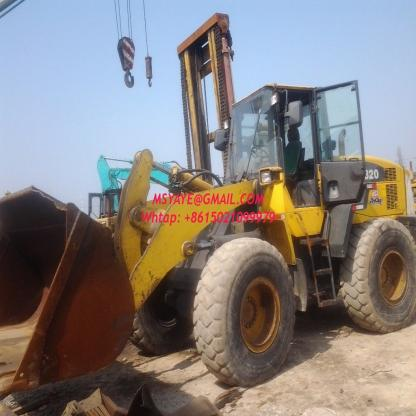bull_dozer/loader/grader: (0, 80, 416, 397)
